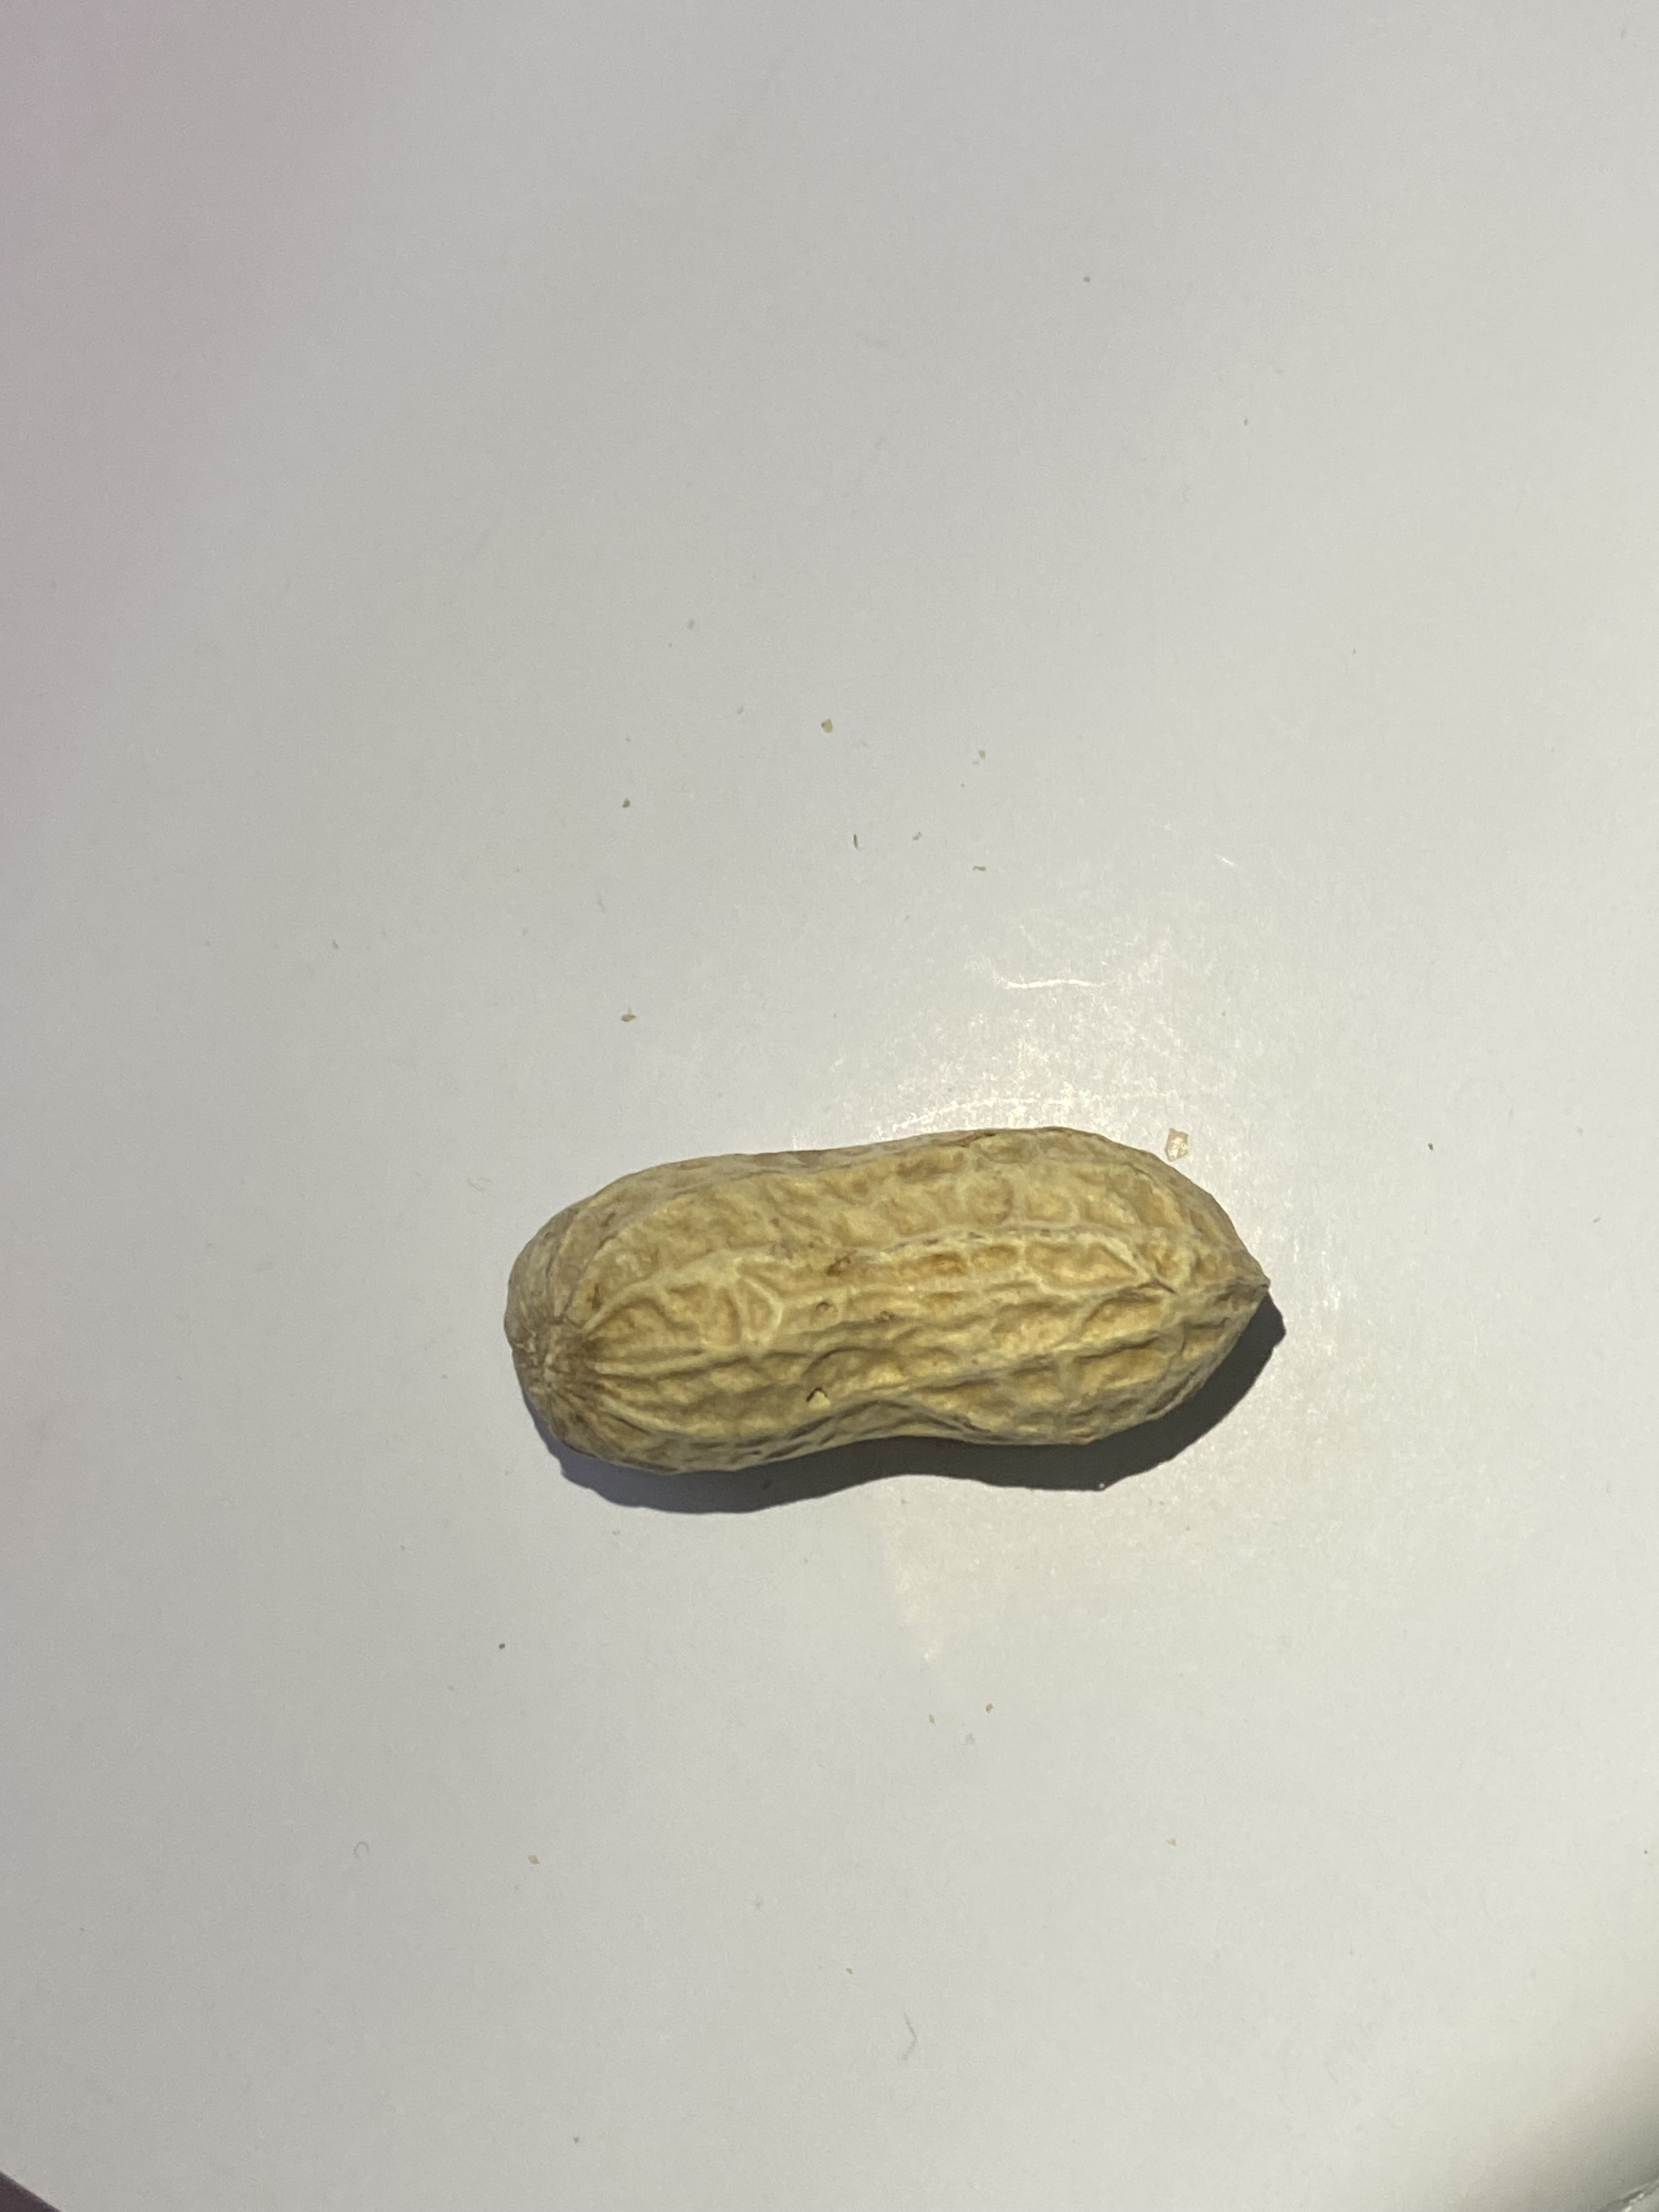kacang2: (423, 1113, 1352, 1500)
